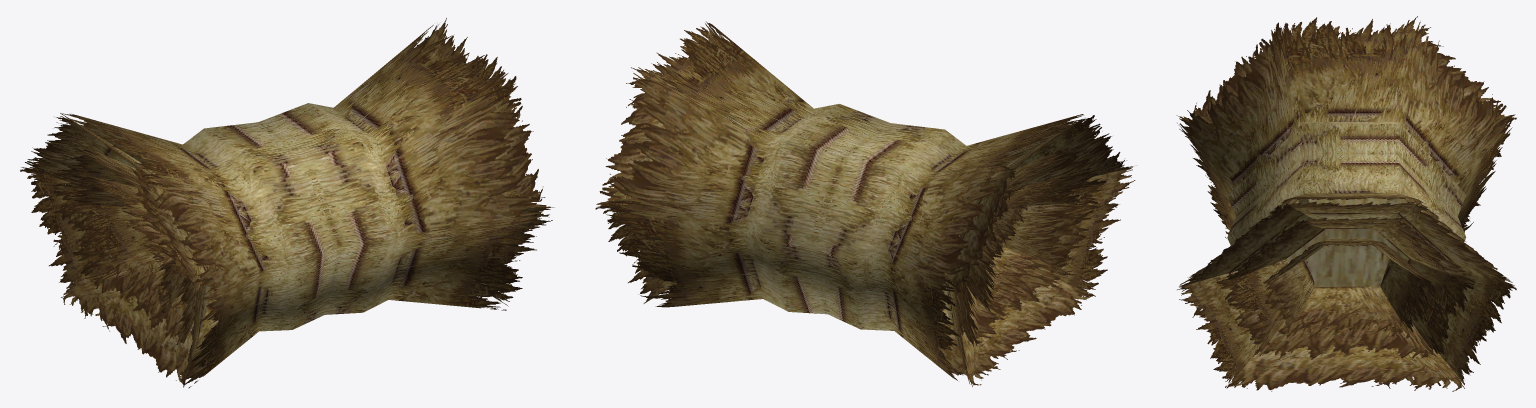
Rendered from mapeng_caodui_tyc_60.FBX.
3 renders of one model, left to right at view 1: azimuth 30°, elevation 25°; view 2: azimuth 150°, elevation 25°; view 3: azimuth 270°, elevation 25°, orthographic. The views are drawn at different scales.
Parts seen in each view (by area): view 1: mapeng_caodui_tyc_60; view 2: mapeng_caodui_tyc_60; view 3: mapeng_caodui_tyc_60.
Boxes of the visible parts, x1=… form: mapeng_caodui_tyc_60: x1=20, y1=18, x2=553, y2=388; mapeng_caodui_tyc_60: x1=595, y1=21, x2=1135, y2=386; mapeng_caodui_tyc_60: x1=1176, y1=16, x2=1516, y2=391.
Size of what is drawn, in the model's own units: 304 by 160 by 241.
